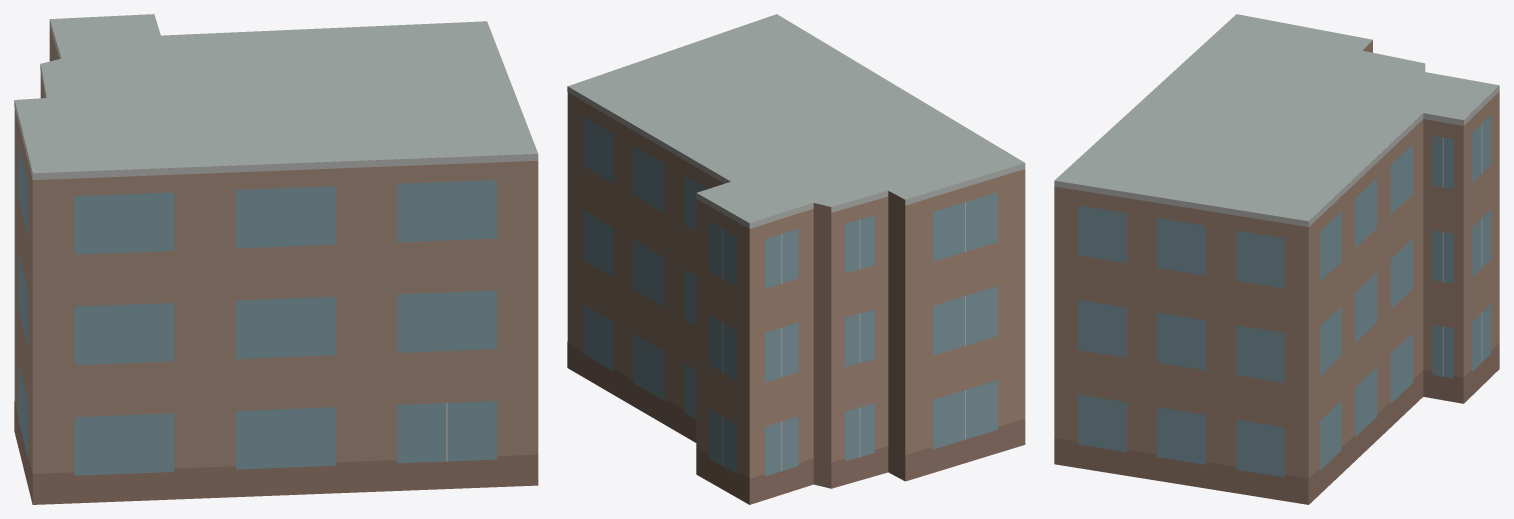
Rendered from survey-upis-32480350.glb.
3 views of the same model, side by side, from view 1: azimuth 30°, elevation 25°; view 2: azimuth 150°, elevation 25°; view 3: azimuth 270°, elevation 25° (orthographic). The views are drawn at different scales.
Visible parts, largest first — view 1: survey-upis-32480350.tmp; view 2: survey-upis-32480350.tmp; view 3: survey-upis-32480350.tmp.
Boxes of the visible parts, x1,y1,x2,y2 form: survey-upis-32480350.tmp: (14, 14, 538, 504); survey-upis-32480350.tmp: (567, 14, 1025, 504); survey-upis-32480350.tmp: (1054, 14, 1499, 504).
Size of the model in its own units: 18.51 by 11.8 by 16.8.
